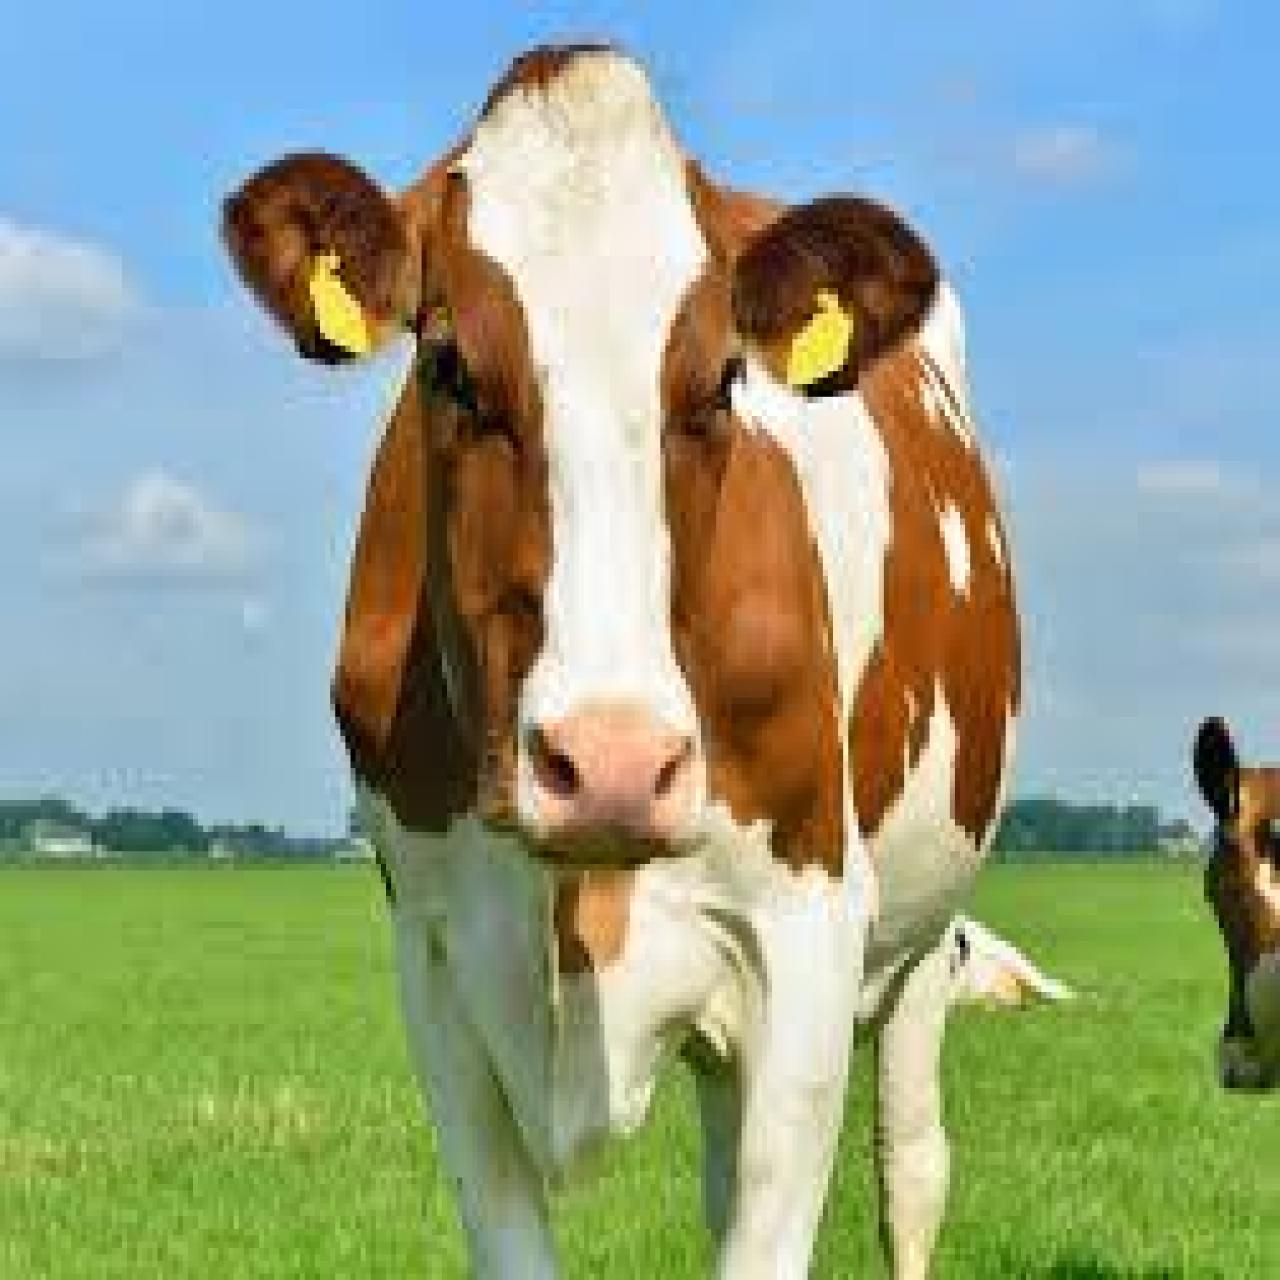cow: (218, 32, 1077, 1280), (1198, 710, 1280, 1094), (940, 922, 1087, 1018)
